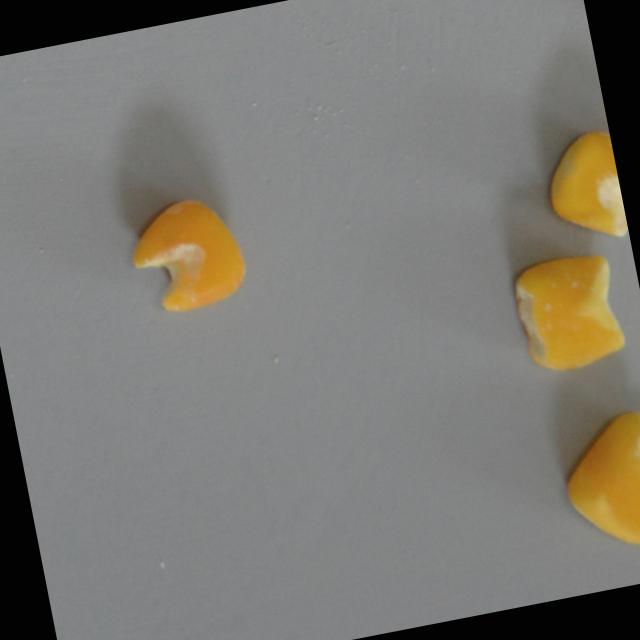no_canjicado: (510, 248, 629, 378), (551, 408, 640, 560), (535, 124, 629, 249)
pelicula: (121, 188, 252, 320)
